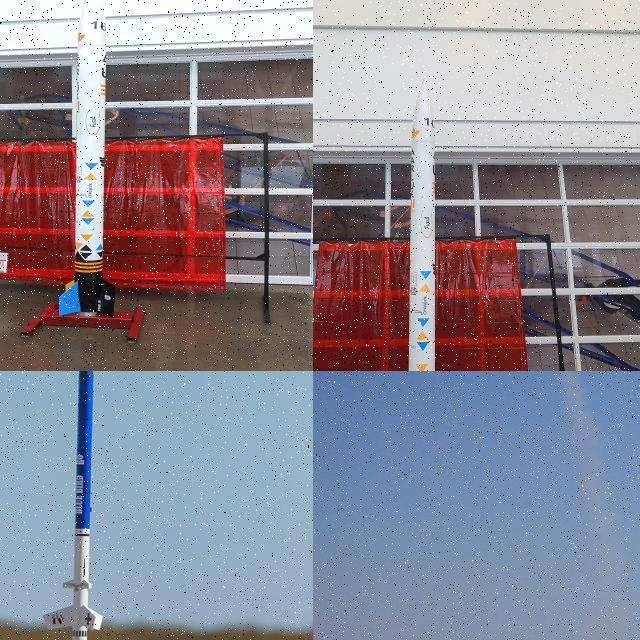Rocket: (59, 0, 116, 317), (41, 371, 104, 640), (408, 77, 435, 371)
